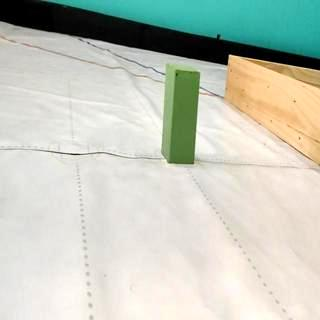greenbox: (159, 64, 201, 165)
